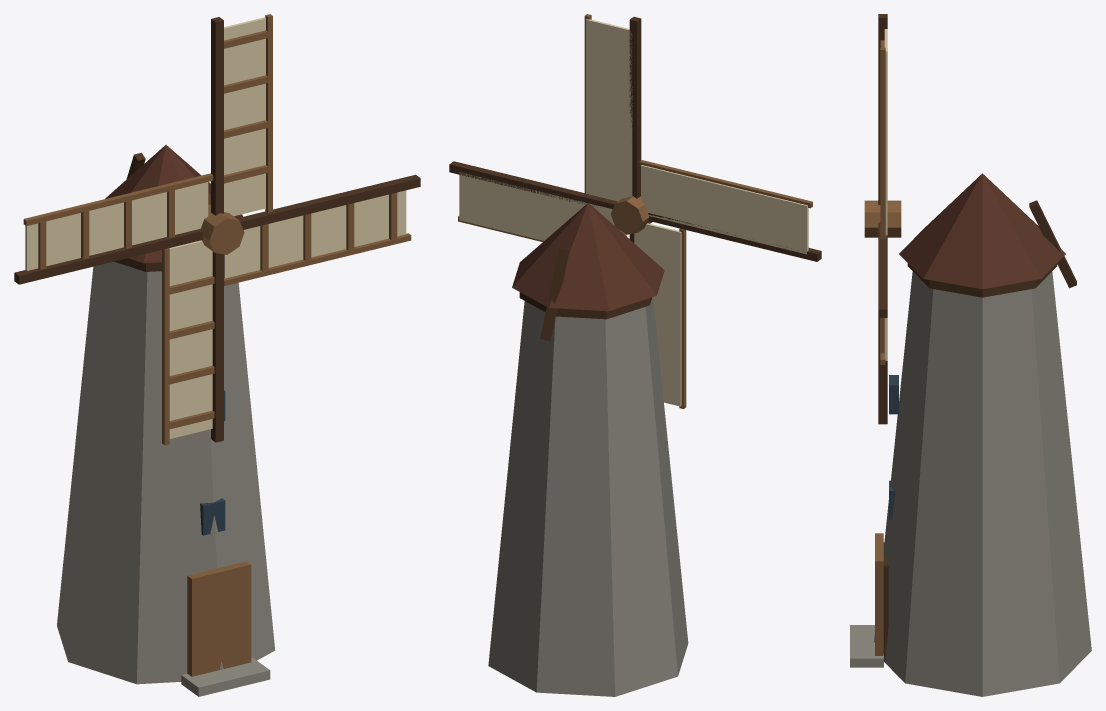
Rendered from windmill.glb.
3 renders of one model, left to right at view 1: azimuth 30°, elevation 25°; view 2: azimuth 150°, elevation 25°; view 3: azimuth 270°, elevation 25°, orthographic. The views are drawn at different scales.
Parts seen in each view (by area): view 1: windmill_body, windmill_blades; view 2: windmill_body, windmill_blades; view 3: windmill_body, windmill_blades.
Part boxes in pixels (box(x1,y1,x2,y2)): windmill_body: box(57, 145, 275, 696); windmill_blades: box(14, 14, 420, 445); windmill_body: box(488, 202, 688, 696); windmill_blades: box(449, 14, 821, 408); windmill_body: box(850, 173, 1091, 696); windmill_blades: box(864, 14, 901, 424).
Bounding box in the file's own units: 7.3 × 11.4 × 3.93.
